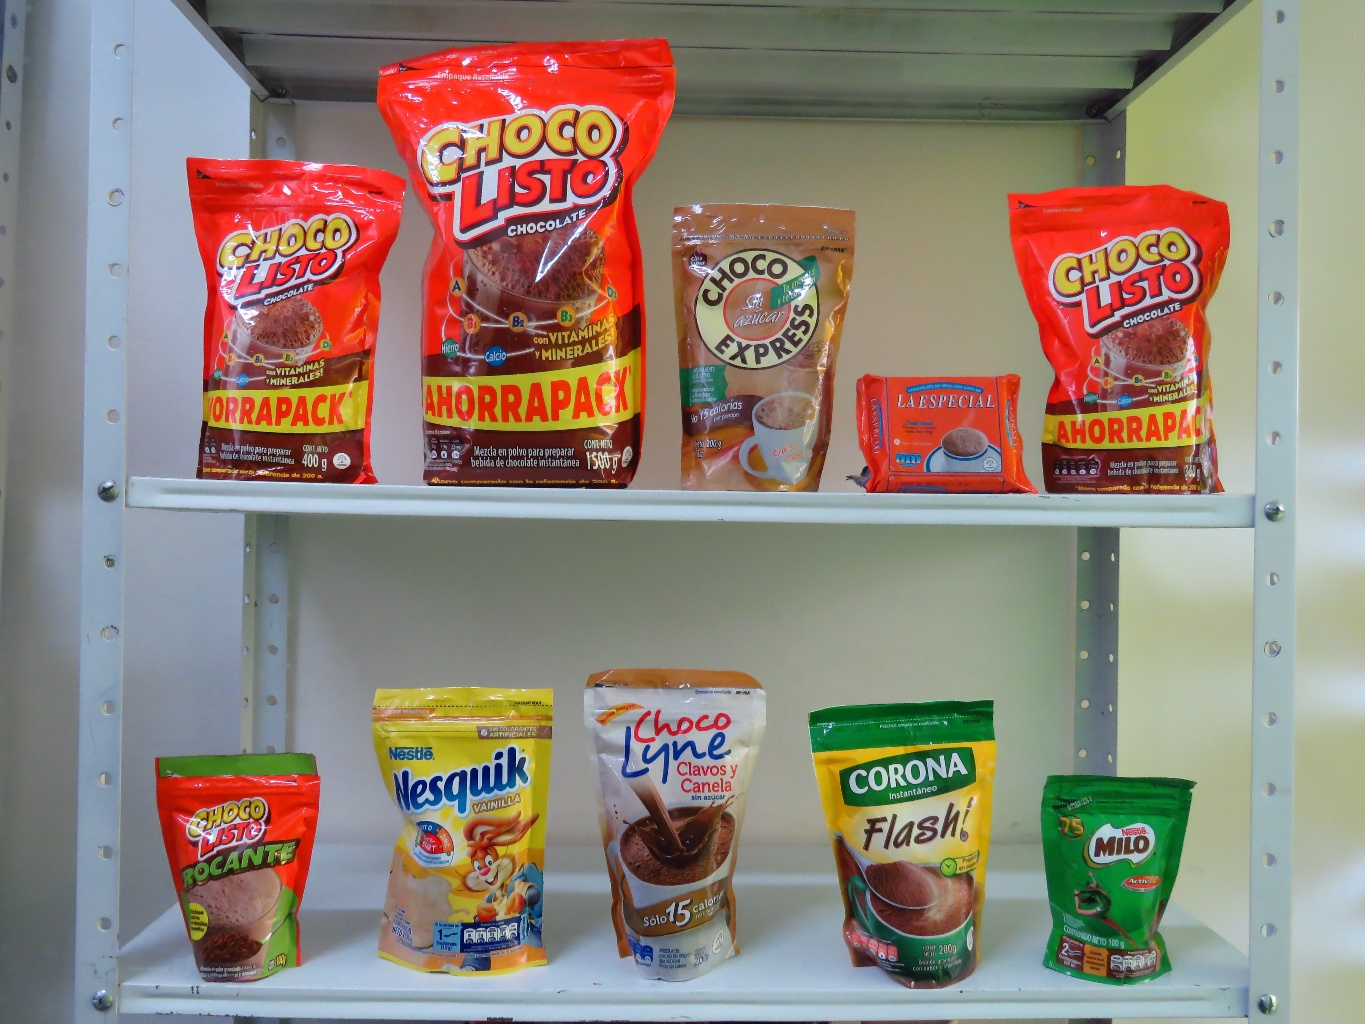COL0170102DYP10000: (150, 758, 325, 985)
COL0170103DYP1,500: (368, 37, 673, 490)
COL0170103DYP36000: (1005, 188, 1236, 495)
COL0170103DYP40000: (186, 155, 406, 485)
COL0170203DYP10000: (1042, 772, 1200, 985)
COL0170306DYP20000: (371, 691, 561, 979)
